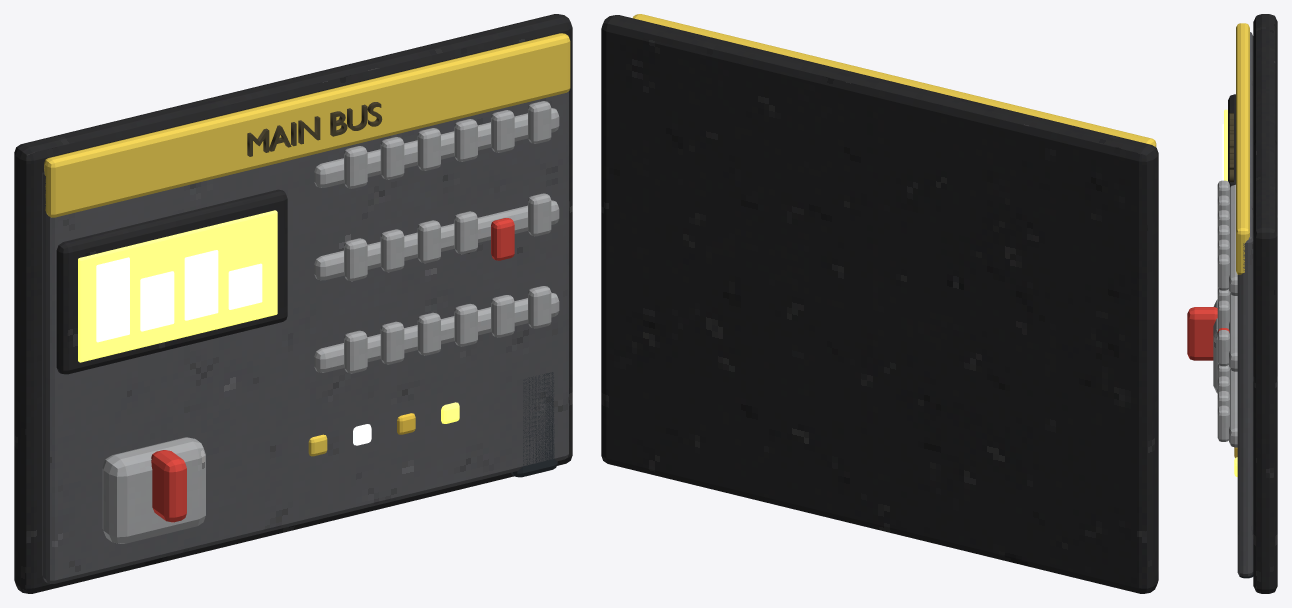
File: decor_eng_breaker_panel.glb
3 views of the same model, side by side, from view 1: azimuth 30°, elevation 25°; view 2: azimuth 150°, elevation 25°; view 3: azimuth 270°, elevation 25° (orthographic). The views are drawn at different scales.
Parts seen in each view (by area): view 1: DEC_EngBreakerPanel__Panel_Face, DEC_EngBreakerPanel__Panel_Header, DEC_EngBreakerPanel__Panel_Back, DEC_EngBreakerPanel__Load_Glow, DEC_EngBreakerPanel__Load_Bezel, DEC_EngBreakerPanel__Isolator_Body, DEC_EngBreakerPanel__Breaker_Rail_2, DEC_EngBreakerPanel__Breaker_Rail_1, DEC_EngBreakerPanel__Breaker_Rail_3, DEC_EngBreakerPanel__Load_Bar_1, DEC_EngBreakerPanel__Cable_Channel, DEC_EngBreakerPanel__Isolator_Lever (+22 smaller); view 2: DEC_EngBreakerPanel__Panel_Back, DEC_EngBreakerPanel__Panel_Header; view 3: DEC_EngBreakerPanel__Panel_Back, DEC_EngBreakerPanel__Panel_Face, DEC_EngBreakerPanel__Panel_Header, DEC_EngBreakerPanel__Isolator_Lever, DEC_EngBreakerPanel__Breaker_Rail_1, DEC_EngBreakerPanel__Breaker_Rail_2, DEC_EngBreakerPanel__Breaker_Rail_3, DEC_EngBreakerPanel__Breaker_3_6, DEC_EngBreakerPanel__Breaker_1_6, DEC_EngBreakerPanel__Breaker_2_6, DEC_EngBreakerPanel__Load_Bezel, DEC_EngBreakerPanel__Isolator_Body (+12 smaller).
Part boxes in pixels (left/top/right/bottom): DEC_EngBreakerPanel__Panel_Face: left=42, top=91, right=568, bottom=583; DEC_EngBreakerPanel__Panel_Header: left=44, top=33, right=570, bottom=217; DEC_EngBreakerPanel__Panel_Back: left=14, top=14, right=572, bottom=593; DEC_EngBreakerPanel__Load_Glow: left=78, top=210, right=277, bottom=362; DEC_EngBreakerPanel__Load_Bezel: left=56, top=189, right=287, bottom=374; DEC_EngBreakerPanel__Isolator_Body: left=102, top=437, right=205, bottom=543; DEC_EngBreakerPanel__Breaker_Rail_2: left=314, top=200, right=559, bottom=280; DEC_EngBreakerPanel__Breaker_Rail_1: left=314, top=108, right=559, bottom=187; DEC_EngBreakerPanel__Breaker_Rail_3: left=314, top=292, right=559, bottom=372; DEC_EngBreakerPanel__Load_Bar_1: left=96, top=257, right=129, bottom=342; DEC_EngBreakerPanel__Cable_Channel: left=511, top=372, right=557, bottom=477; DEC_EngBreakerPanel__Isolator_Lever: left=151, top=450, right=186, bottom=522; DEC_EngBreakerPanel__Panel_Back: left=601, top=15, right=1158, bottom=593; DEC_EngBreakerPanel__Panel_Header: left=633, top=14, right=1156, bottom=147; DEC_EngBreakerPanel__Panel_Back: left=1253, top=14, right=1277, bottom=593; DEC_EngBreakerPanel__Panel_Face: left=1237, top=32, right=1253, bottom=576; DEC_EngBreakerPanel__Panel_Header: left=1236, top=23, right=1249, bottom=274; DEC_EngBreakerPanel__Isolator_Lever: left=1187, top=307, right=1217, bottom=360; DEC_EngBreakerPanel__Breaker_Rail_1: left=1229, top=184, right=1237, bottom=295; DEC_EngBreakerPanel__Breaker_Rail_2: left=1229, top=293, right=1237, bottom=371; DEC_EngBreakerPanel__Breaker_Rail_3: left=1229, top=369, right=1237, bottom=447; DEC_EngBreakerPanel__Breaker_3_6: left=1217, top=405, right=1229, bottom=441; DEC_EngBreakerPanel__Breaker_1_6: left=1217, top=254, right=1229, bottom=290; DEC_EngBreakerPanel__Breaker_2_6: left=1217, top=330, right=1229, bottom=366; DEC_EngBreakerPanel__Load_Bezel: left=1228, top=94, right=1235, bottom=187; DEC_EngBreakerPanel__Isolator_Body: left=1213, top=299, right=1217, bottom=393.
Bounding box in the file's own units: 1.5 × 1.16 × 0.26.
Materials: 11 (3 with a texture image).
